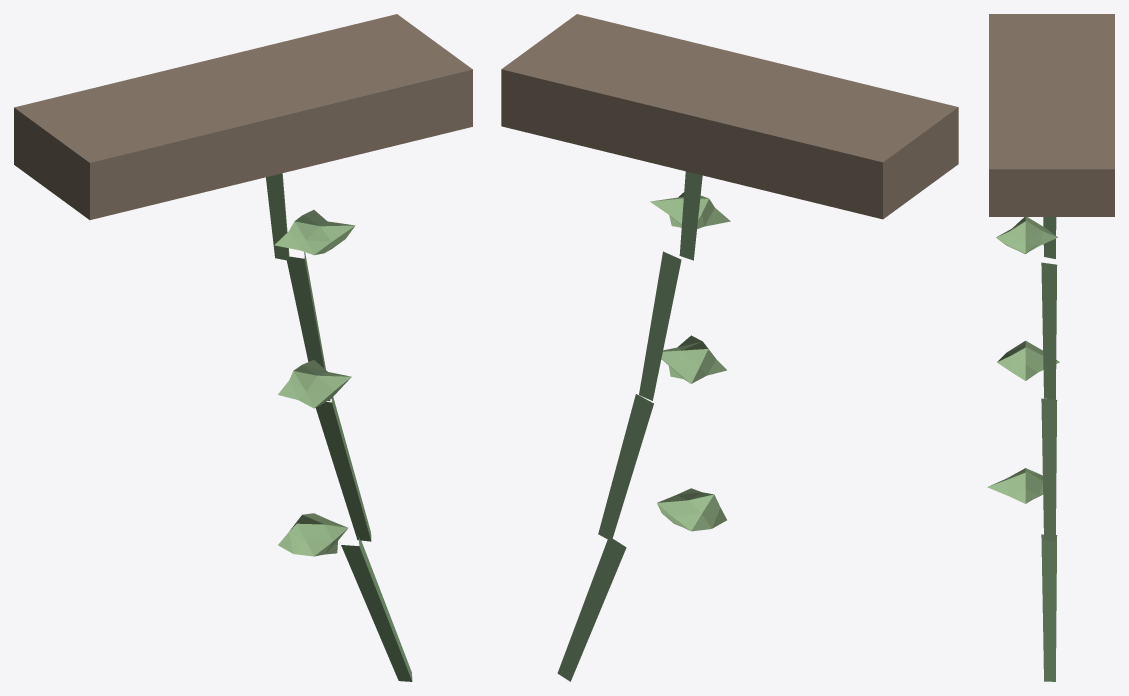
File: vine_v06.glb
The picture shows the model from 3 angles, left to right: view 1: azimuth 30°, elevation 25°; view 2: azimuth 150°, elevation 25°; view 3: azimuth 270°, elevation 25°; orthographic projection. The views are drawn at different scales.
Parts seen in each view (by area): view 1: lod0; view 2: lod0; view 3: lod0.
Part boxes in pixels (x1,y1,x2,y2): lod0: (14,14,472,681); lod0: (501,14,958,681); lod0: (987,14,1114,681).
Size of what is drawn, in the model's own units: 0.7 by 1.1 by 0.2435.
